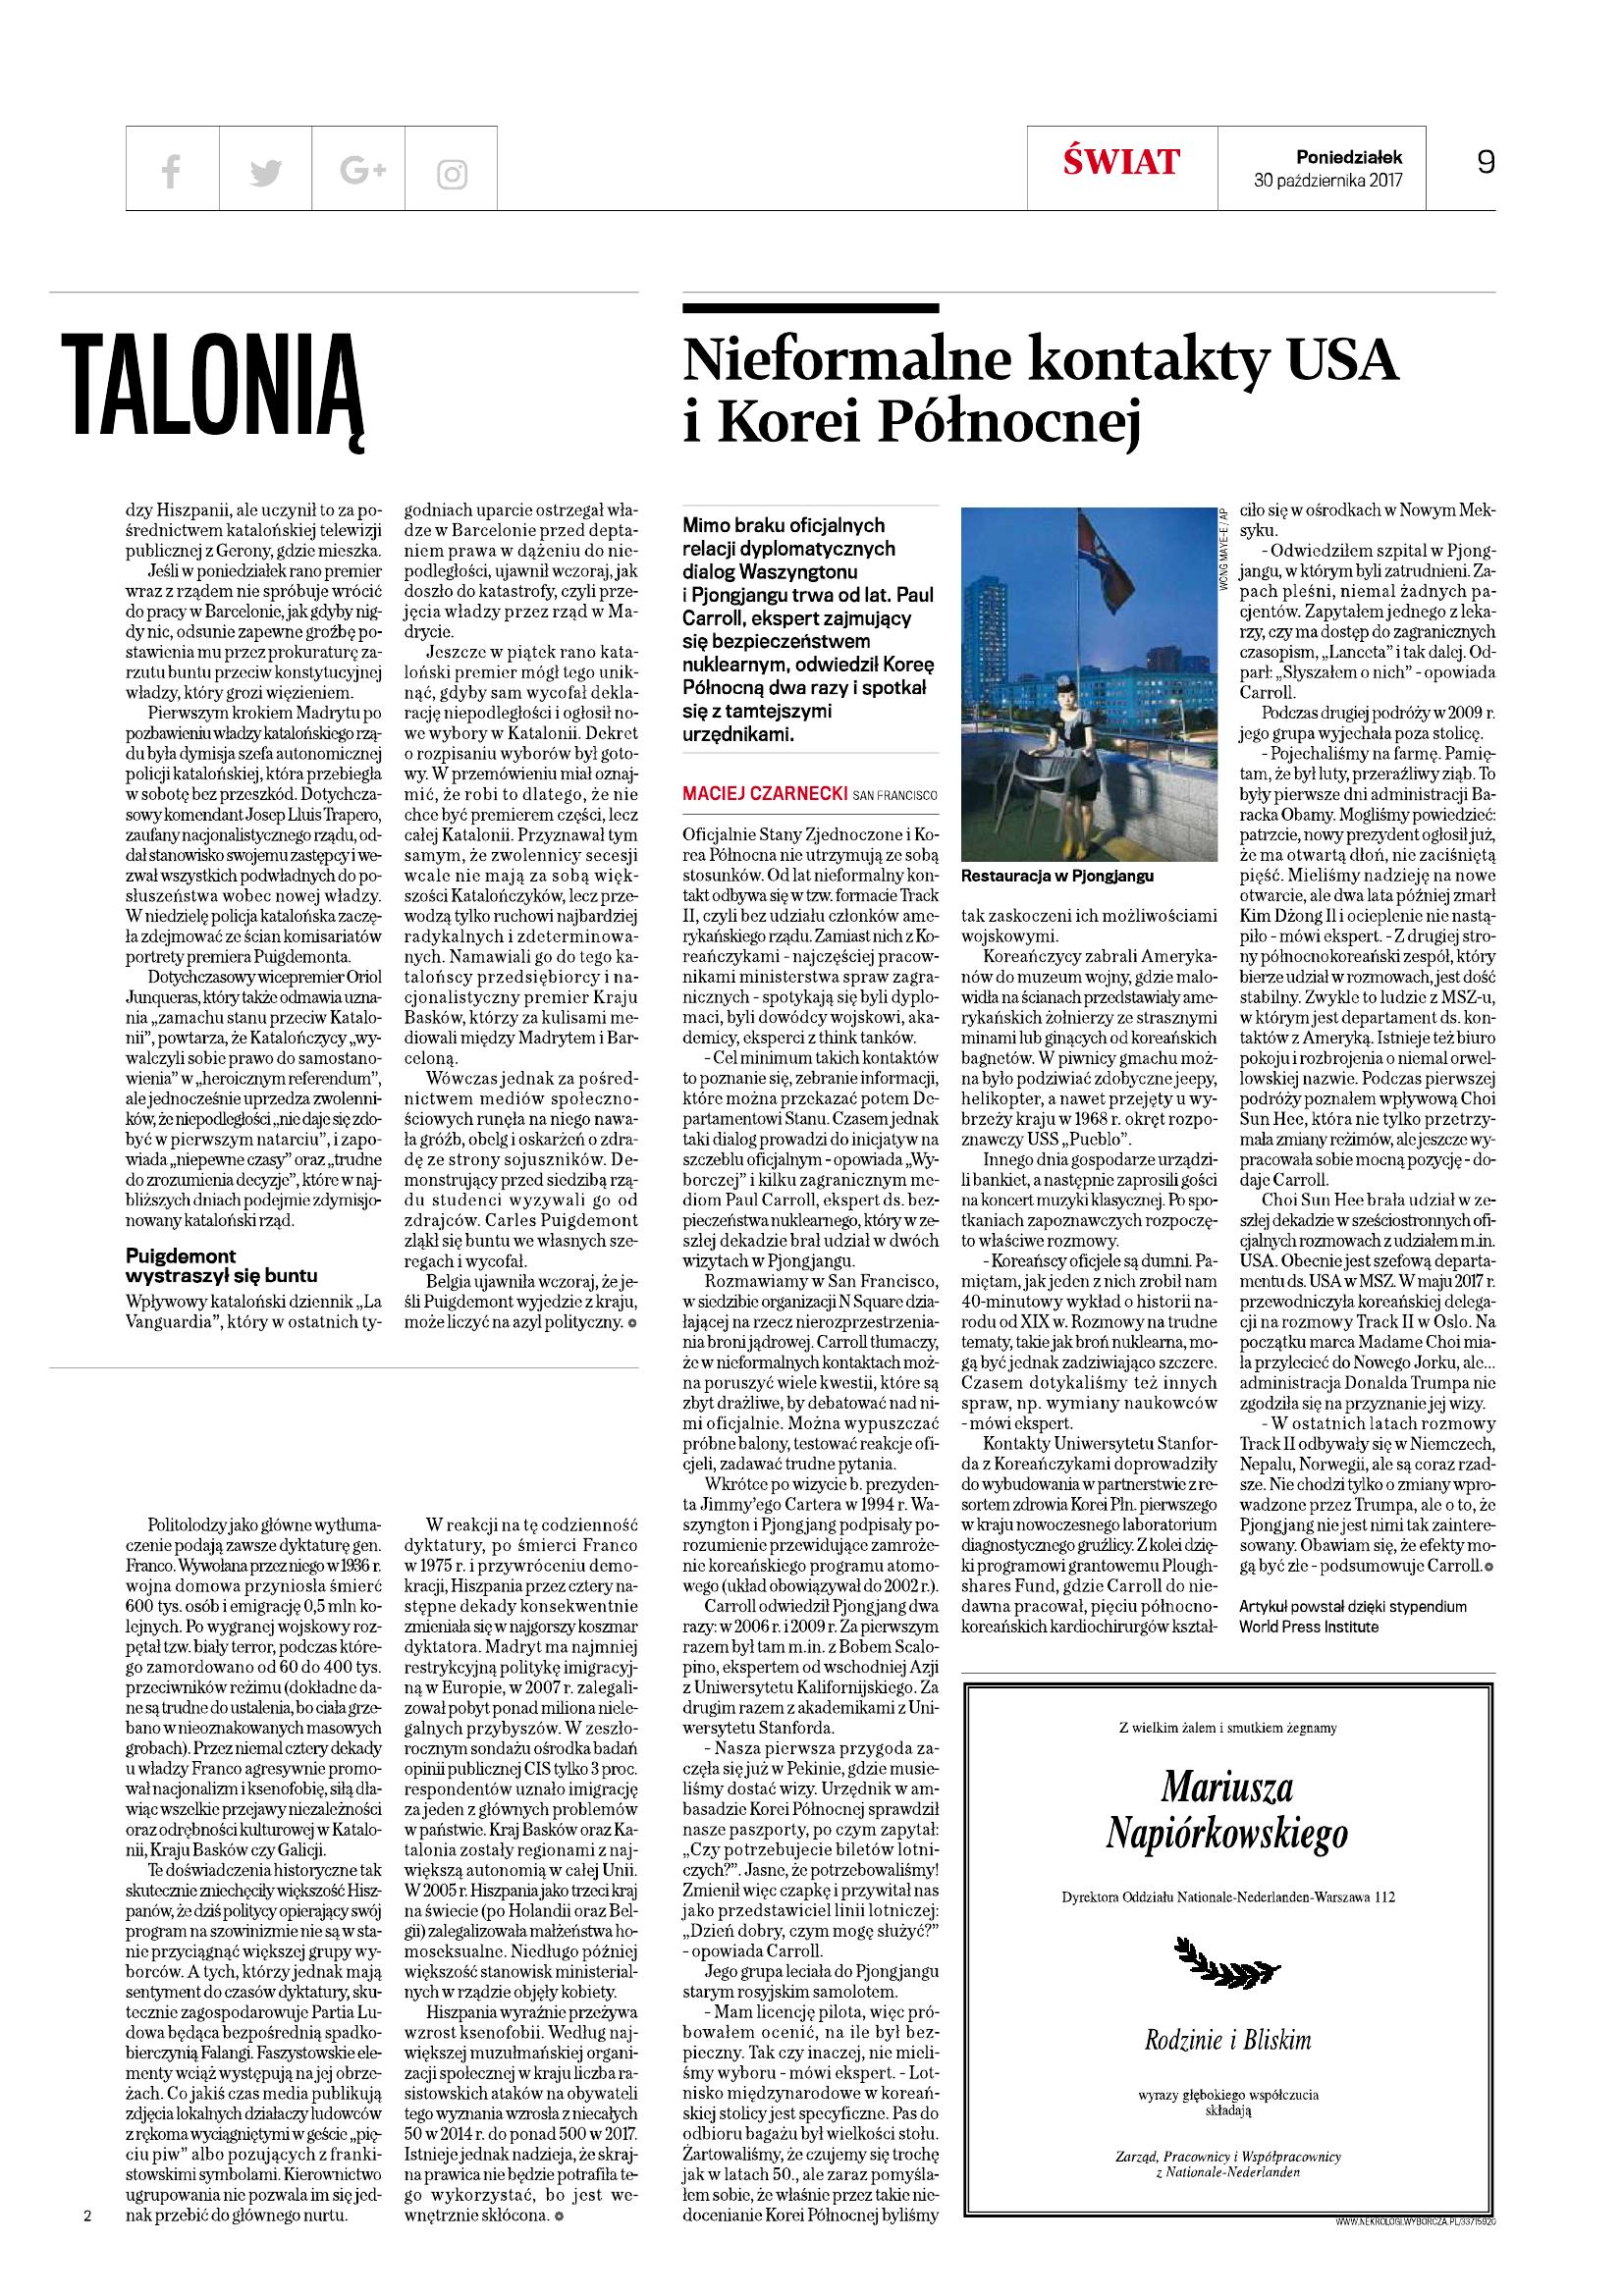article: (674, 295, 1502, 2233)
